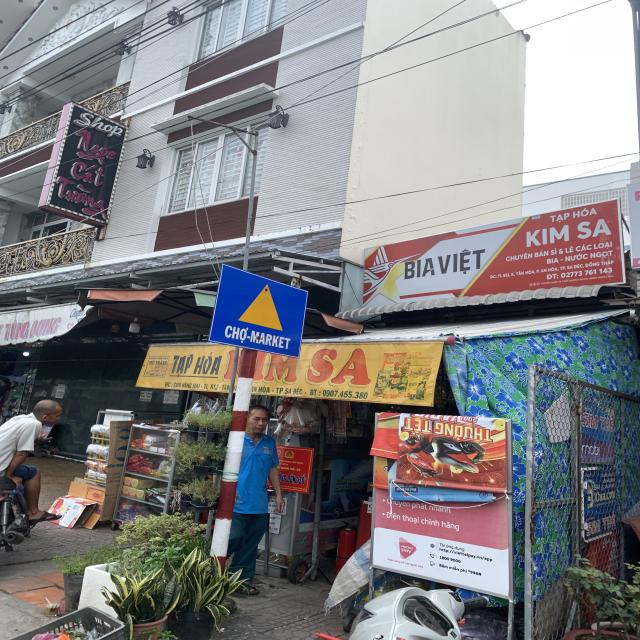Cho_Quay_Xe: (206, 262, 310, 357)
